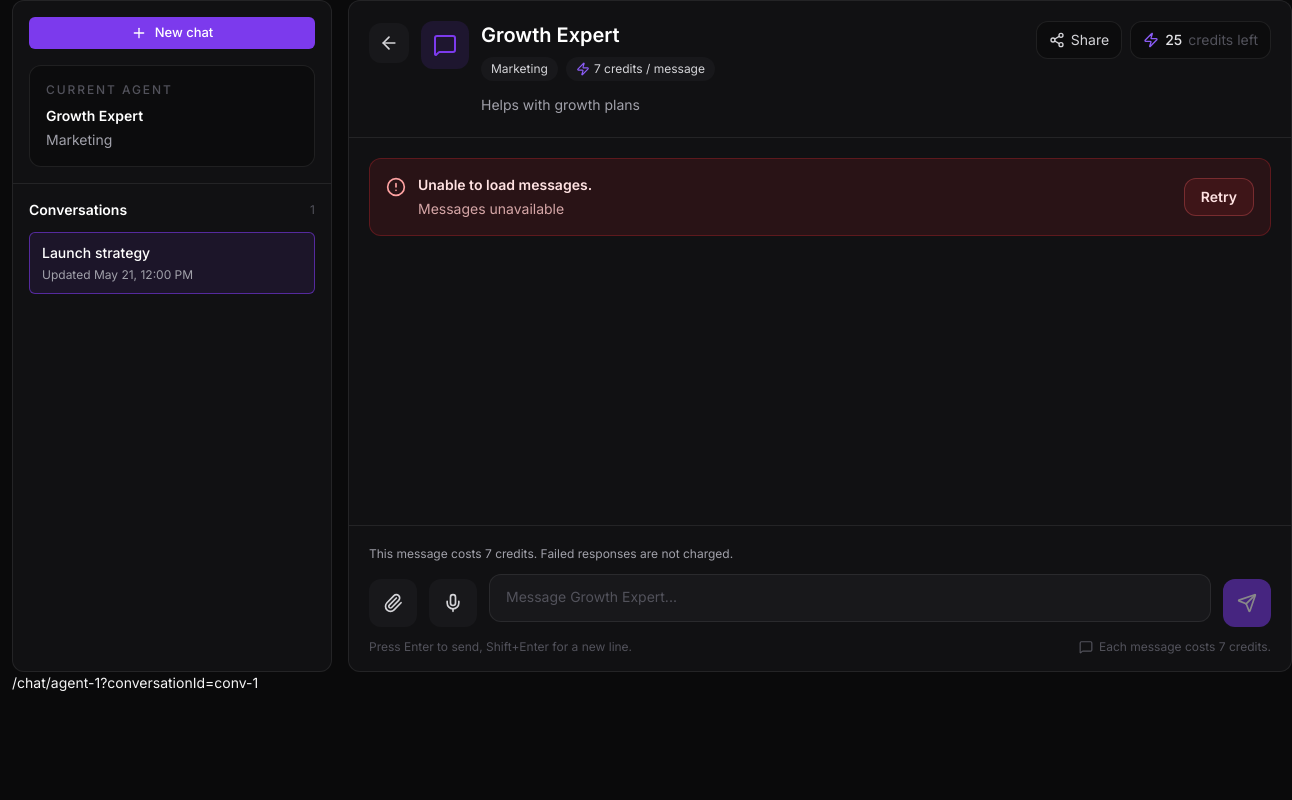
ChatPage › shows a retry button for message load errors
Expected: the text "Unable to load messages." is shown, 418,175 -> 592,195
Click the button "Retry".
click(1219, 197)  # box 1184,178 -> 1254,216
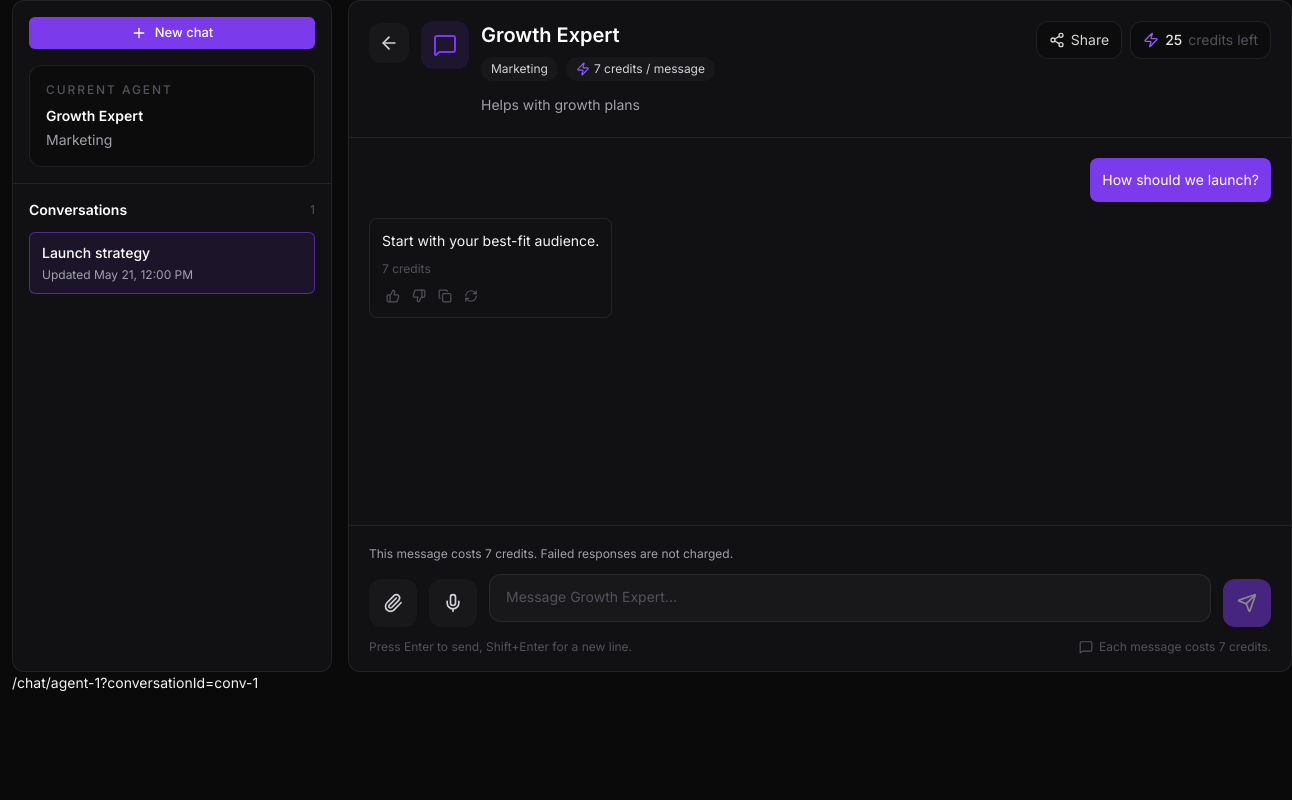
Expected: the text "How should we launch?" is shown, 1102,168 -> 1259,192
